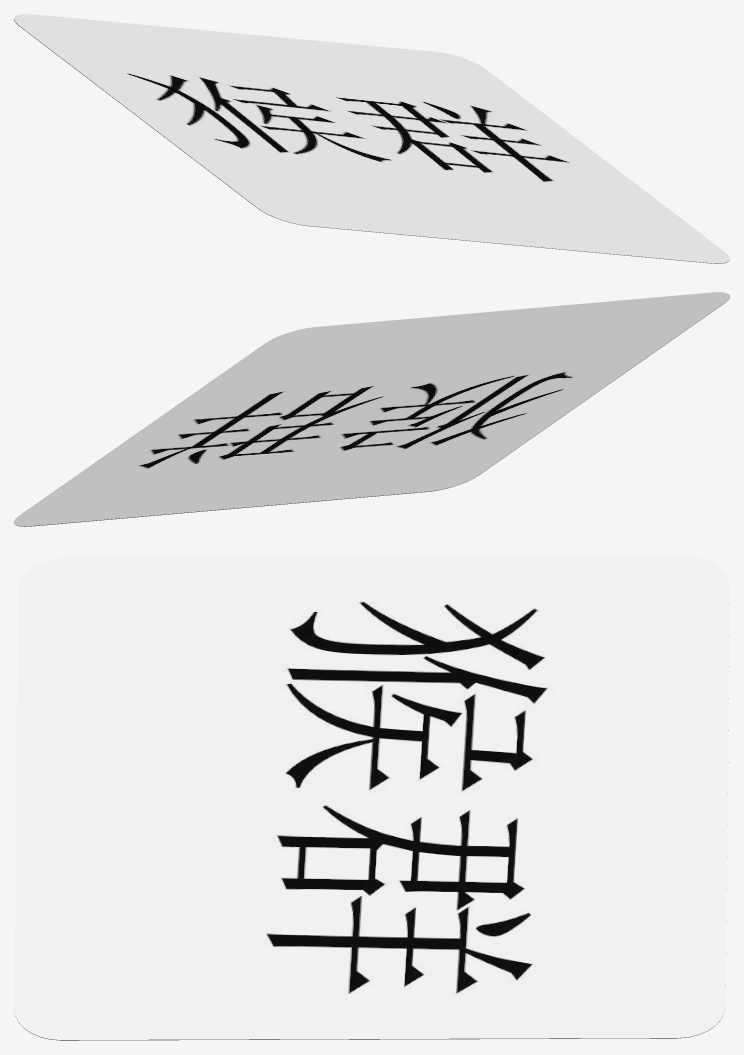
The model's file is HouQun.FBX.
3 views of the same model, one above another, from view 1: azimuth 30°, elevation 25°; view 2: azimuth 150°, elevation 25°; view 3: azimuth 270°, elevation 25° (orthographic). The views are drawn at different scales.
Visible parts, largest first — view 1: Rectangle001; view 2: Rectangle001; view 3: Rectangle001.
Part boxes in pixels (box(x1,y1,x2,y2)): Rectangle001: box(14, 14, 729, 263); Rectangle001: box(14, 292, 729, 526); Rectangle001: box(14, 555, 729, 1040).
Size of the model in its own units: 57.7 by 18.73 by 60.36.
